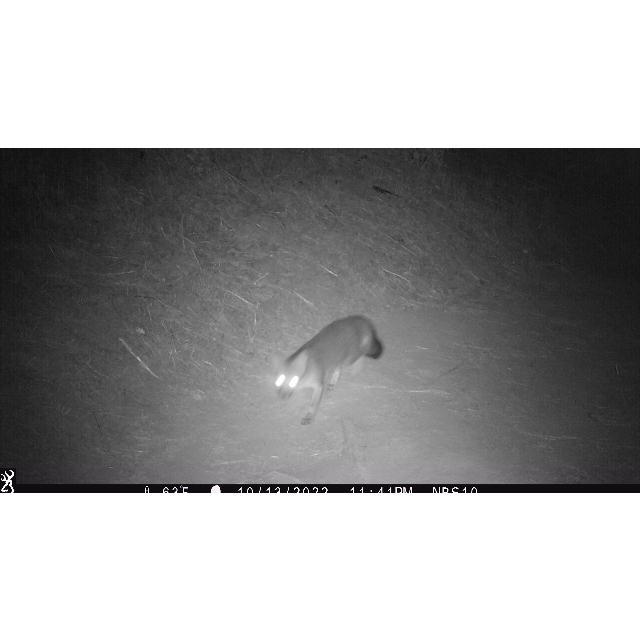animals: (274, 314, 384, 426)
